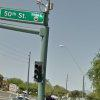Traffic light: (28, 56, 50, 89)
